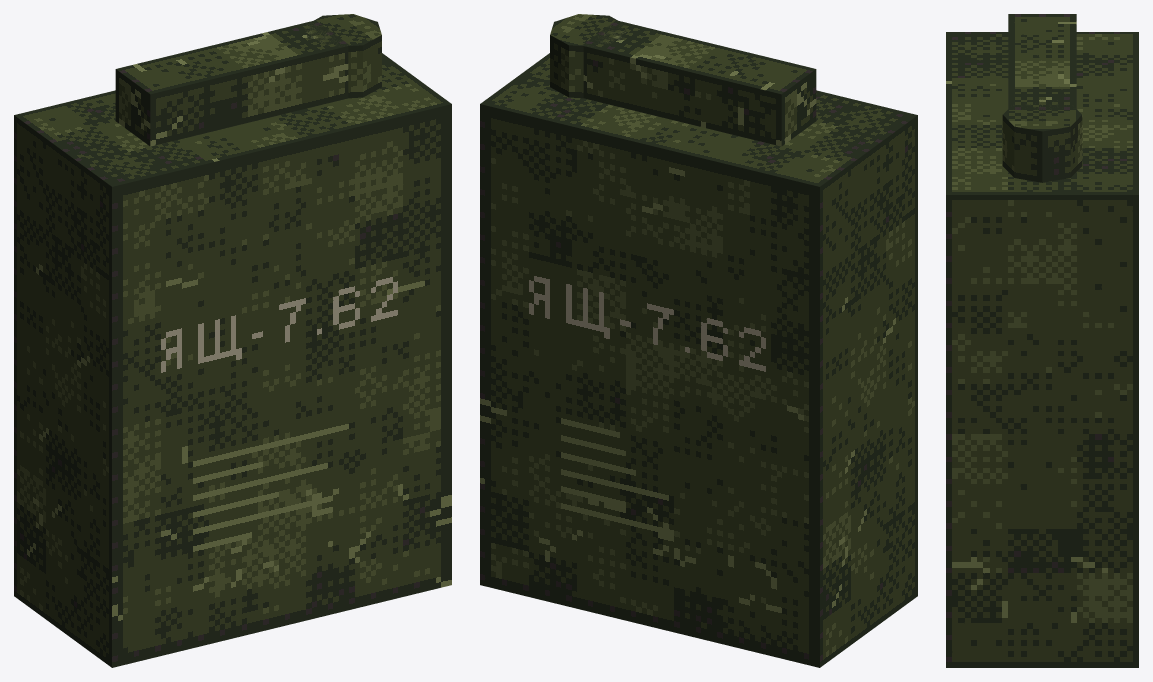
The model's file is SM_JerryCan_01.glb.
3 renders of one model, left to right at view 1: azimuth 30°, elevation 25°; view 2: azimuth 150°, elevation 25°; view 3: azimuth 270°, elevation 25°, orthographic.
Parts seen in each view (by area): view 1: SM_JerryCan_01; view 2: SM_JerryCan_01; view 3: SM_JerryCan_01.
Boxes of the visible parts, <box> form: SM_JerryCan_01: <box>14,14,451,667</box>; SM_JerryCan_01: <box>480,14,917,667</box>; SM_JerryCan_01: <box>946,14,1138,667</box>.
Size of the model in its own units: 0.34 by 0.51 by 0.17.
1 material, 1 textured.
